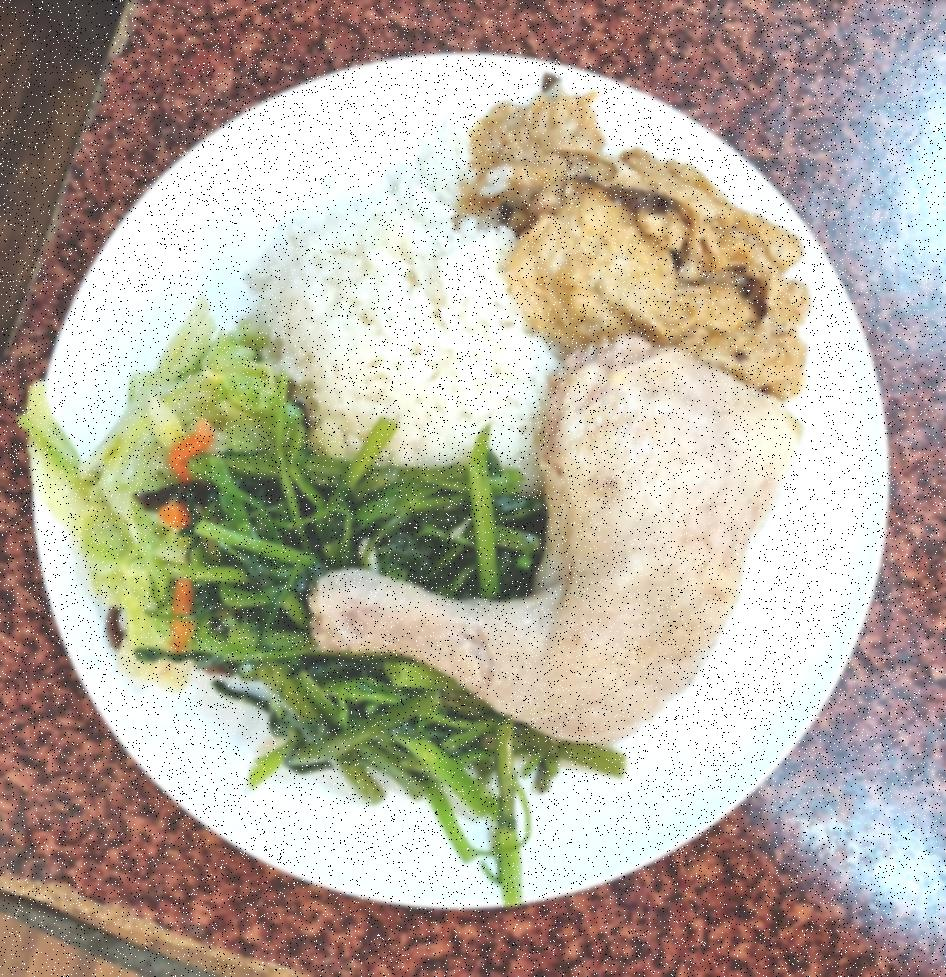big fried chicken leg: (13, 41, 902, 922)
big herbal chicken leg: (264, 182, 580, 477)
braised fish fillet: (172, 434, 562, 802), (454, 68, 832, 391), (68, 322, 306, 693)
brown rice: (308, 338, 808, 726)
